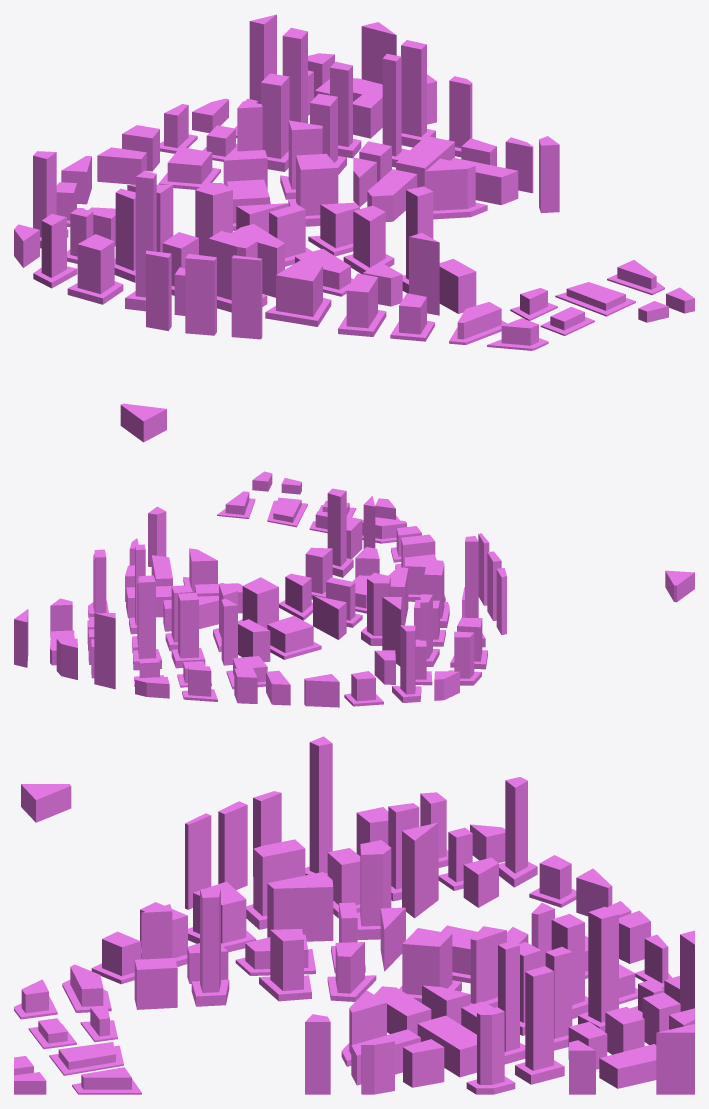
File: buildings_00219.obj
3 views of the same model, one above another, from view 1: azimuth 30°, elevation 25°; view 2: azimuth 150°, elevation 25°; view 3: azimuth 270°, elevation 25° (orthographic). The views are drawn at different scales.
Size of the model in its own units: 1460 by 332 by 1460.
